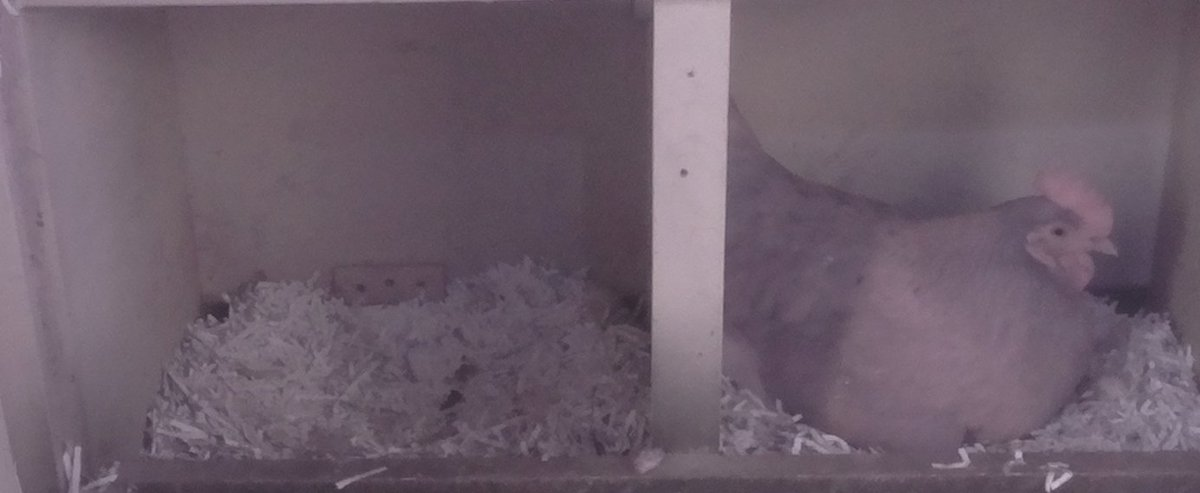hen: (732, 111, 1121, 446)
